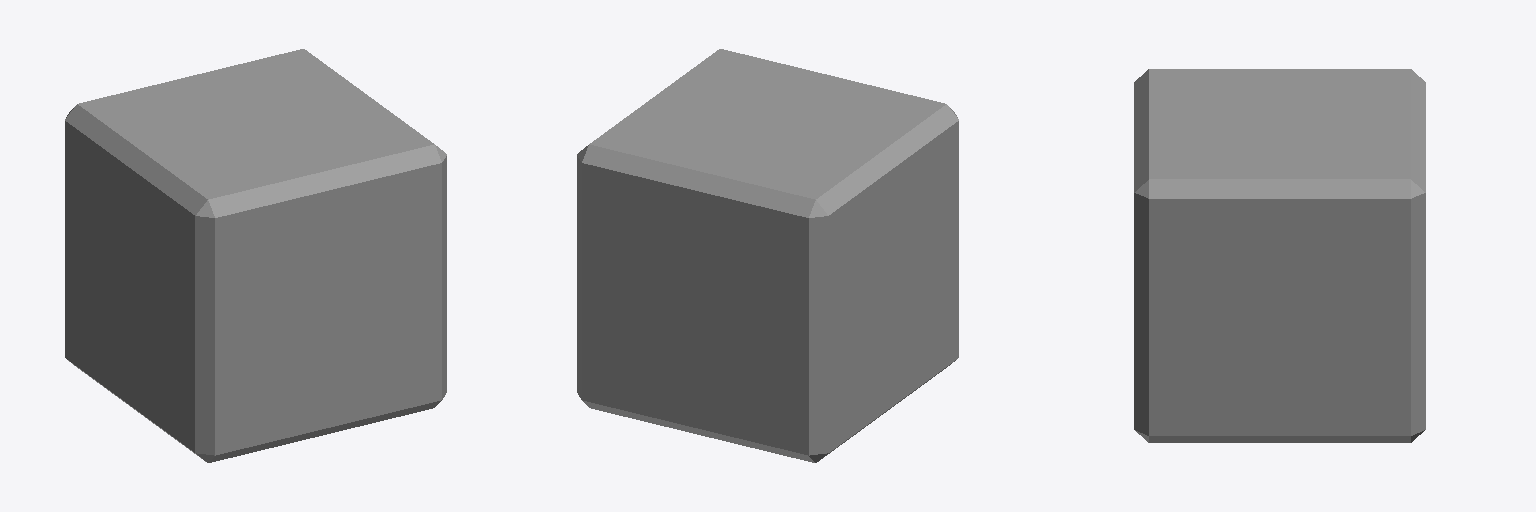
The model's file is cubeArchetype.obj.
3 views of the same model, side by side, from view 1: azimuth 30°, elevation 25°; view 2: azimuth 150°, elevation 25°; view 3: azimuth 270°, elevation 25° (orthographic).
Visible parts, largest first — view 1: outerCube; view 2: outerCube; view 3: outerCube.
Boxes of the visible parts, x1,y1,x2,y2 form: outerCube: [65, 49, 446, 462]; outerCube: [577, 49, 958, 462]; outerCube: [1134, 69, 1425, 442].
Bounding box in the file's own units: 0.3898 × 0.3898 × 0.3898.